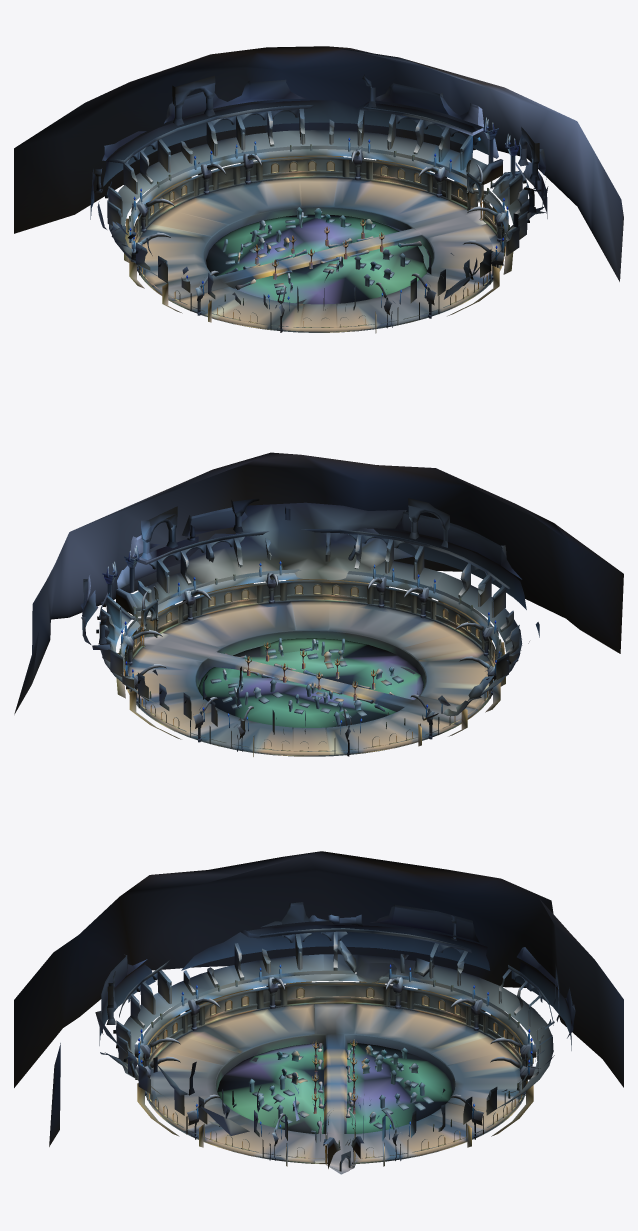
Rendered from 06Arena.gltf.
The picture shows the model from 3 angles, top to bottom: view 1: azimuth 30°, elevation 25°; view 2: azimuth 150°, elevation 25°; view 3: azimuth 270°, elevation 25°; orthographic projection. The views are drawn at different scales.
Visible parts, largest first — view 1: stg041_o48_Mesh_0052, stg041_o48_Mesh_0108, stg040_k48_Mesh_0008, stg041_o48_Mesh_0066, stg041_o48_Mesh_0024, stg041_o48_Mesh_0093, stg041_o48_Mesh_0051, stg041_o48_Mesh_0089, stg041_o48_Mesh_0061, stg041_o48_Mesh_0109, stg041_o48_Mesh_0039, stg041_o48_Mesh_0110 (+16 smaller); view 2: stg041_o48_Mesh_0052, stg041_o48_Mesh_0108, stg040_k48_Mesh_0008, stg041_o48_Mesh_0001, stg041_o48_Mesh_0024, stg041_o48_Mesh_0093, stg041_o48_Mesh_0066, stg041_o48_Mesh_0051, stg041_o48_Mesh_0089, stg041_o48_Mesh_0061, stg041_o48_Mesh_0109, stg041_o48_Mesh_0039 (+15 smaller); view 3: stg041_o48_Mesh_0052, stg041_o48_Mesh_0108, stg040_k48_Mesh_0008, stg041_o48_Mesh_0066, stg041_o48_Mesh_0024, stg041_o48_Mesh_0093, stg041_o48_Mesh_0089, stg041_o48_Mesh_0051, stg041_o48_Mesh_0061, stg041_o48_Mesh_0109, stg041_o48_Mesh_0039, stg041_o48_Mesh_0110 (+14 smaller).
Part boxes in pixels (bbox=[...]): stg041_o48_Mesh_0052: bbox=[14, 46, 623, 281]; stg041_o48_Mesh_0108: bbox=[145, 181, 493, 328]; stg040_k48_Mesh_0008: bbox=[206, 214, 427, 304]; stg041_o48_Mesh_0066: bbox=[90, 82, 548, 234]; stg041_o48_Mesh_0024: bbox=[92, 77, 546, 332]; stg041_o48_Mesh_0093: bbox=[129, 145, 519, 332]; stg041_o48_Mesh_0051: bbox=[96, 81, 537, 311]; stg041_o48_Mesh_0089: bbox=[109, 130, 521, 284]; stg041_o48_Mesh_0061: bbox=[135, 110, 496, 288]; stg041_o48_Mesh_0109: bbox=[151, 210, 485, 332]; stg041_o48_Mesh_0039: bbox=[128, 75, 534, 332]; stg041_o48_Mesh_0110: bbox=[152, 177, 484, 300]; stg041_o48_Mesh_0052: bbox=[14, 452, 623, 714]; stg041_o48_Mesh_0108: bbox=[135, 605, 485, 752]; stg040_k48_Mesh_0008: bbox=[198, 638, 423, 727]; stg041_o48_Mesh_0001: bbox=[187, 502, 413, 583]; stg041_o48_Mesh_0024: bbox=[83, 507, 519, 756]; stg041_o48_Mesh_0093: bbox=[101, 569, 500, 756]; stg041_o48_Mesh_0066: bbox=[82, 510, 539, 671]; stg041_o48_Mesh_0051: bbox=[83, 513, 522, 734]; stg041_o48_Mesh_0089: bbox=[100, 561, 522, 704]; stg041_o48_Mesh_0061: bbox=[104, 596, 494, 711]; stg041_o48_Mesh_0109: bbox=[142, 633, 478, 756]; stg041_o48_Mesh_0039: bbox=[133, 498, 494, 756]; stg041_o48_Mesh_0052: bbox=[14, 851, 623, 1146]; stg041_o48_Mesh_0108: bbox=[154, 1008, 516, 1159]; stg040_k48_Mesh_0008: bbox=[217, 1043, 452, 1133]; stg041_o48_Mesh_0066: bbox=[99, 907, 575, 1131]; stg041_o48_Mesh_0024: bbox=[101, 902, 572, 1168]; stg041_o48_Mesh_0093: bbox=[139, 970, 531, 1163]; stg041_o48_Mesh_0089: bbox=[117, 954, 553, 1108]; stg041_o48_Mesh_0051: bbox=[101, 903, 554, 1171]; stg041_o48_Mesh_0061: bbox=[149, 999, 521, 1133]; stg041_o48_Mesh_0109: bbox=[163, 1037, 507, 1173]; stg041_o48_Mesh_0039: bbox=[113, 962, 559, 1174]; stg041_o48_Mesh_0110: bbox=[163, 1003, 507, 1130].
Size of the model in its own units: 252 by 75.83 by 254.
